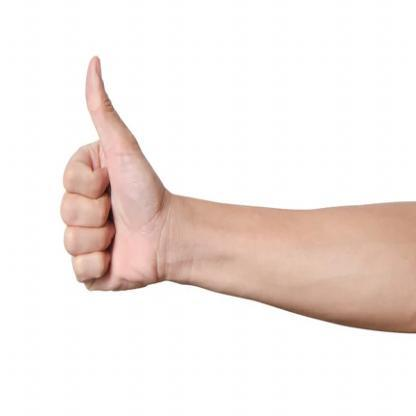thumb_up: (56, 50, 186, 296)
